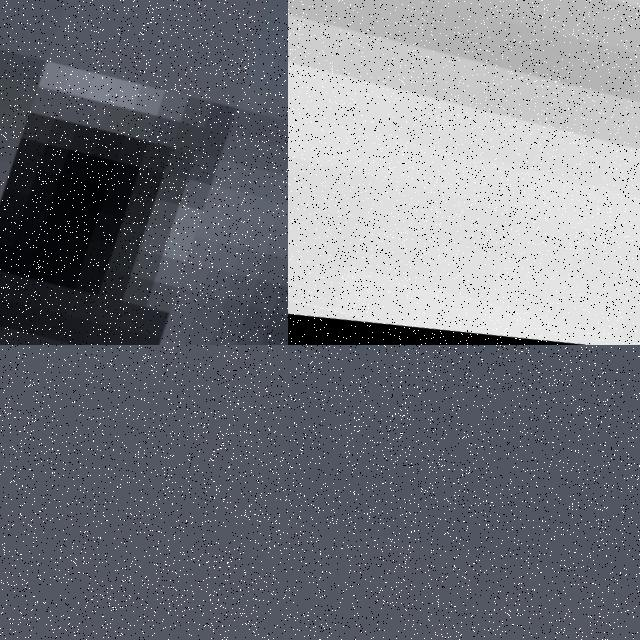0: (0, 0, 288, 345)
drone: (288, 0, 640, 345)
